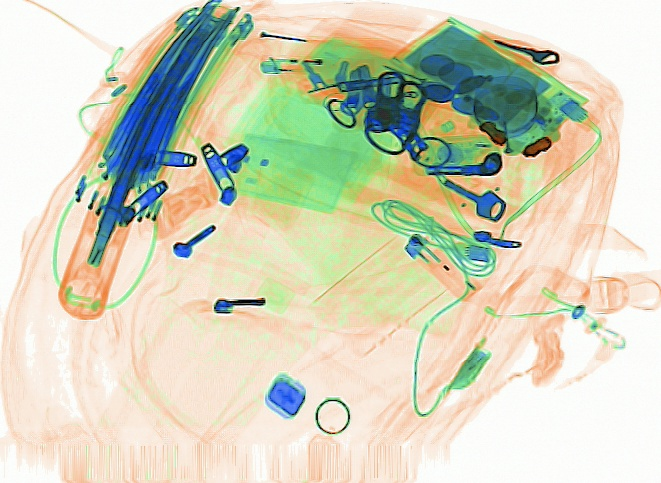lighter: (402, 231, 484, 305), (258, 52, 356, 76)
